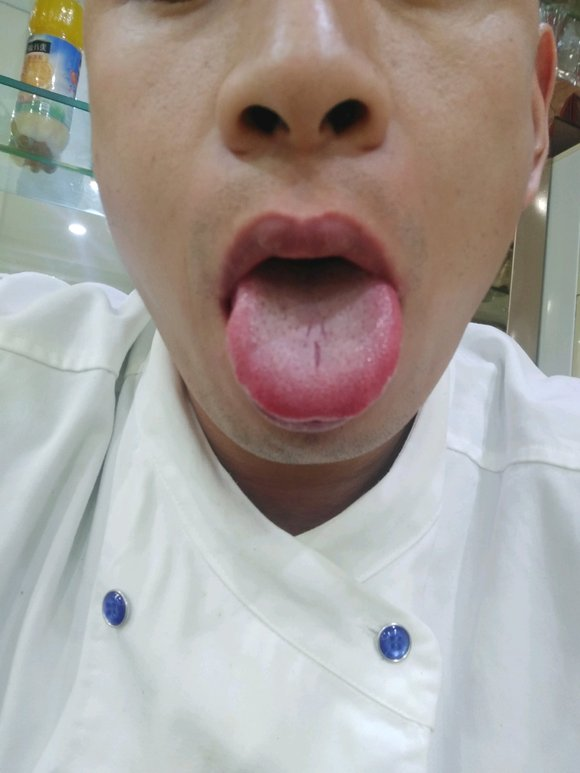baitaishe: (227, 271, 400, 423)
hongshe: (227, 271, 400, 423)
liewenshe: (304, 319, 327, 371)
